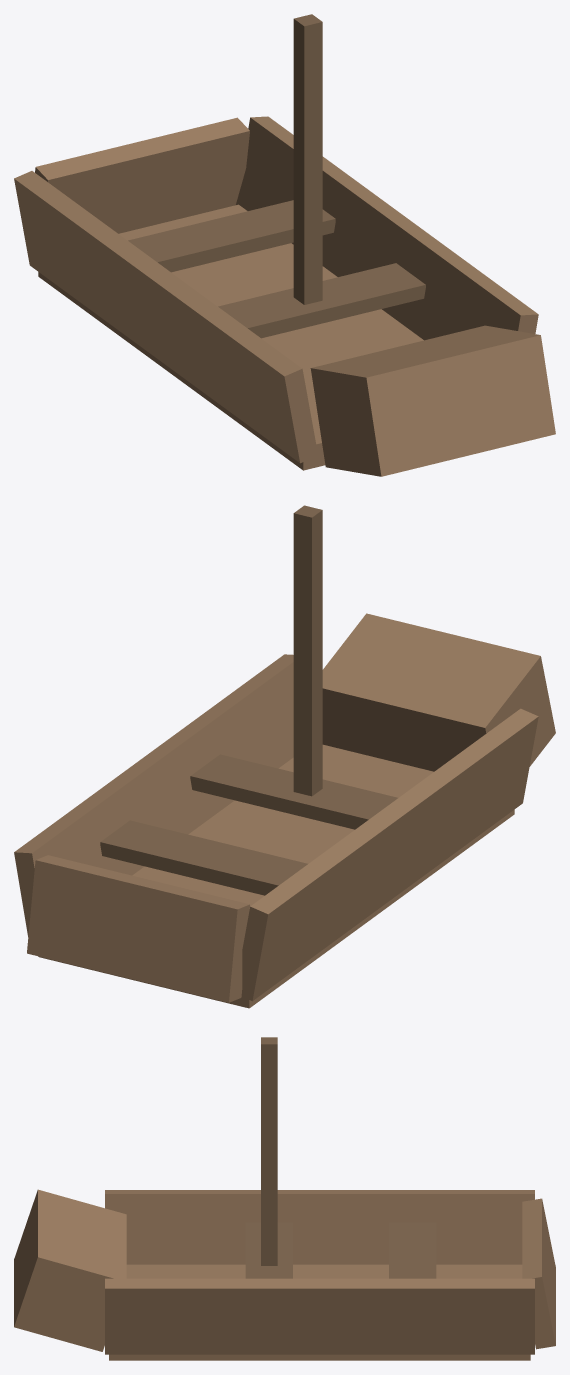
File: rowboat.glb
The picture shows the model from 3 angles, top to bottom: view 1: azimuth 30°, elevation 25°; view 2: azimuth 150°, elevation 25°; view 3: azimuth 270°, elevation 25°; orthographic projection. The views are drawn at different scales.
Parts seen in each view (by area): view 1: BoatHull, BoatSeatsAndMast; view 2: BoatHull, BoatSeatsAndMast; view 3: BoatHull, BoatSeatsAndMast.
Boxes of the visible parts, bbox=[...] form: BoatHull: bbox=[14, 116, 555, 476]; BoatSeatsAndMast: bbox=[128, 14, 425, 338]; BoatHull: bbox=[14, 613, 555, 1008]; BoatSeatsAndMast: bbox=[100, 505, 397, 895]; BoatHull: bbox=[14, 1189, 555, 1360]; BoatSeatsAndMast: bbox=[245, 1037, 436, 1278].
Size of the model in its own units: 1.38 by 1.83 by 3.21.
